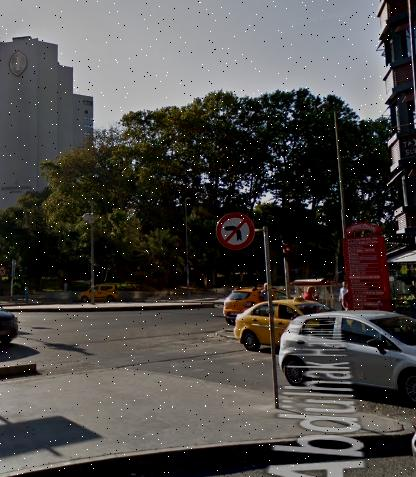leftturnsareforbidden: (219, 214, 254, 249)
